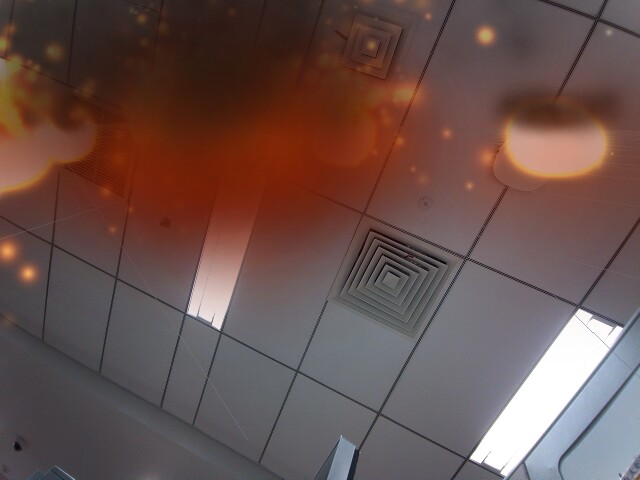fire: (502, 92, 614, 187), (0, 100, 59, 201), (319, 100, 380, 172), (36, 105, 97, 164)
